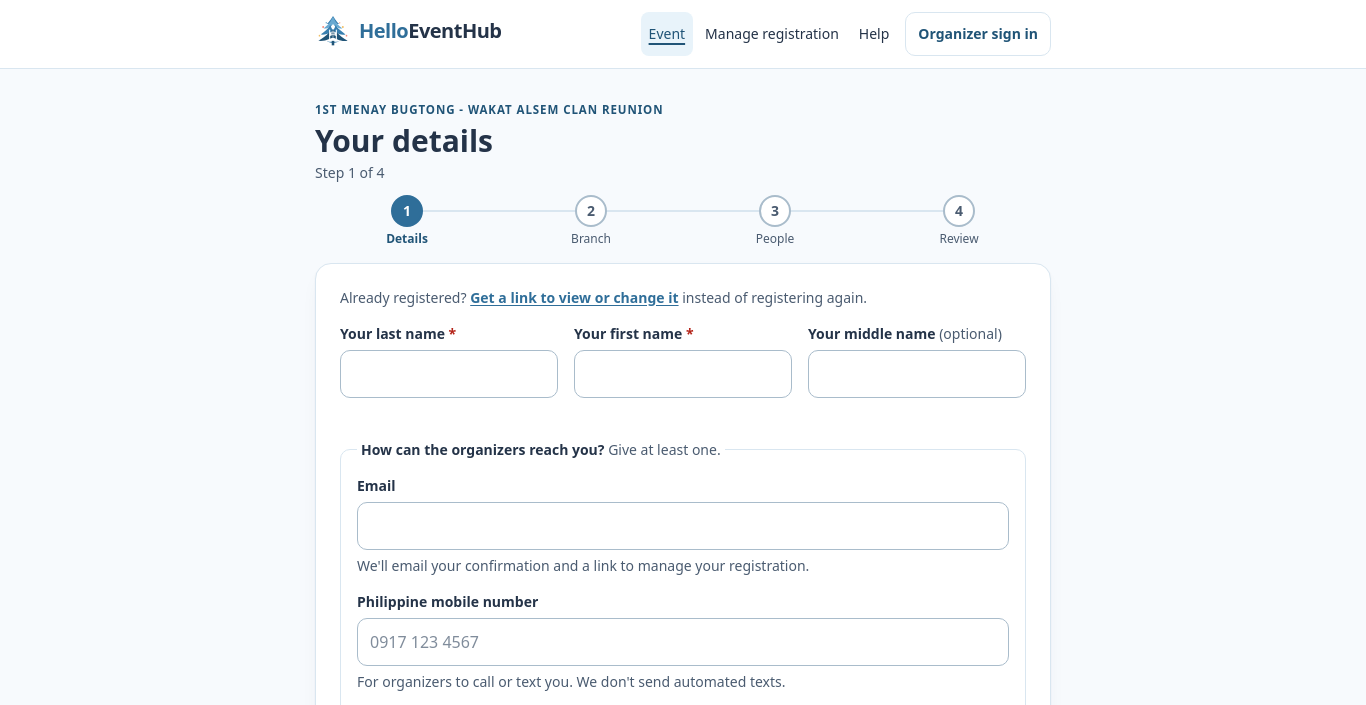
Test: public interface › marks the current registration step and protects entered data during internal navigation
This screenshot has width=1366, height=705.
Type "Santos" into the field labelled "Your last name *" at (449, 374), box top-left (340, 350), bottom-right (558, 398)
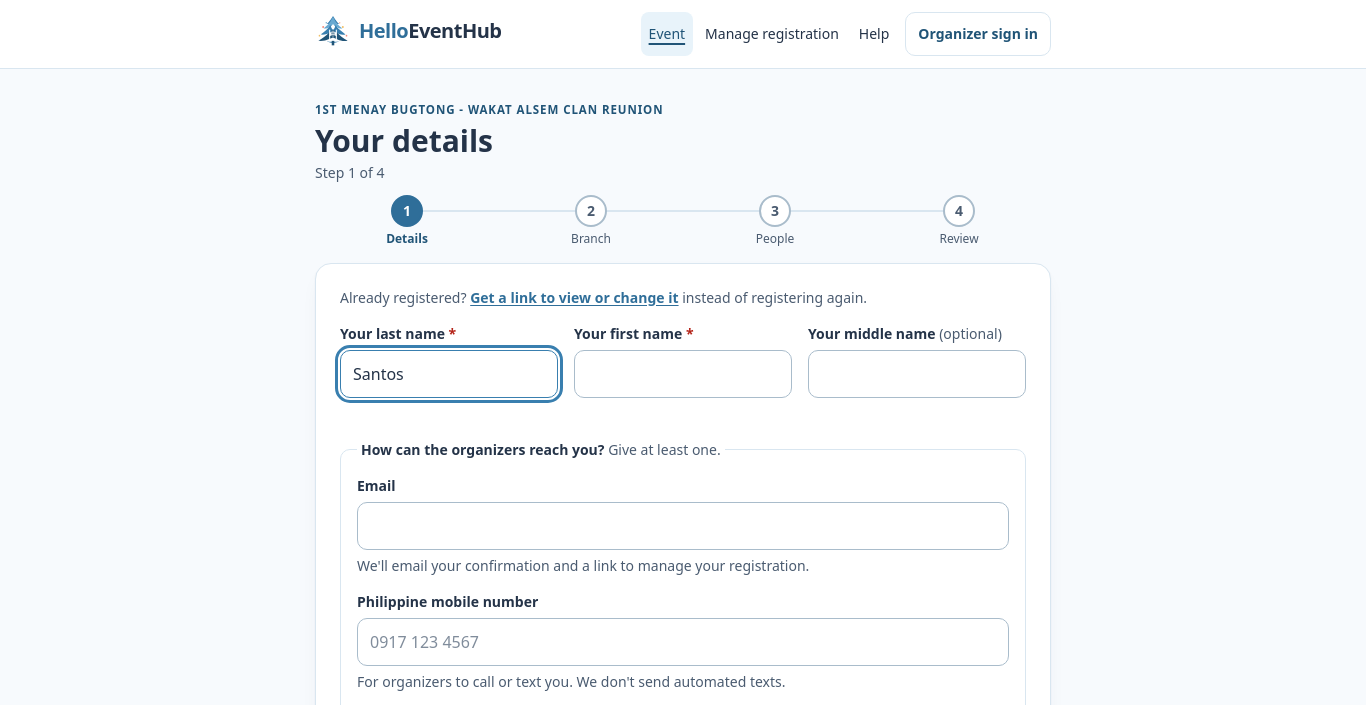
Type "Maria" into the field labelled "Your first name *" at (683, 374), box top-left (574, 350), bottom-right (792, 398)
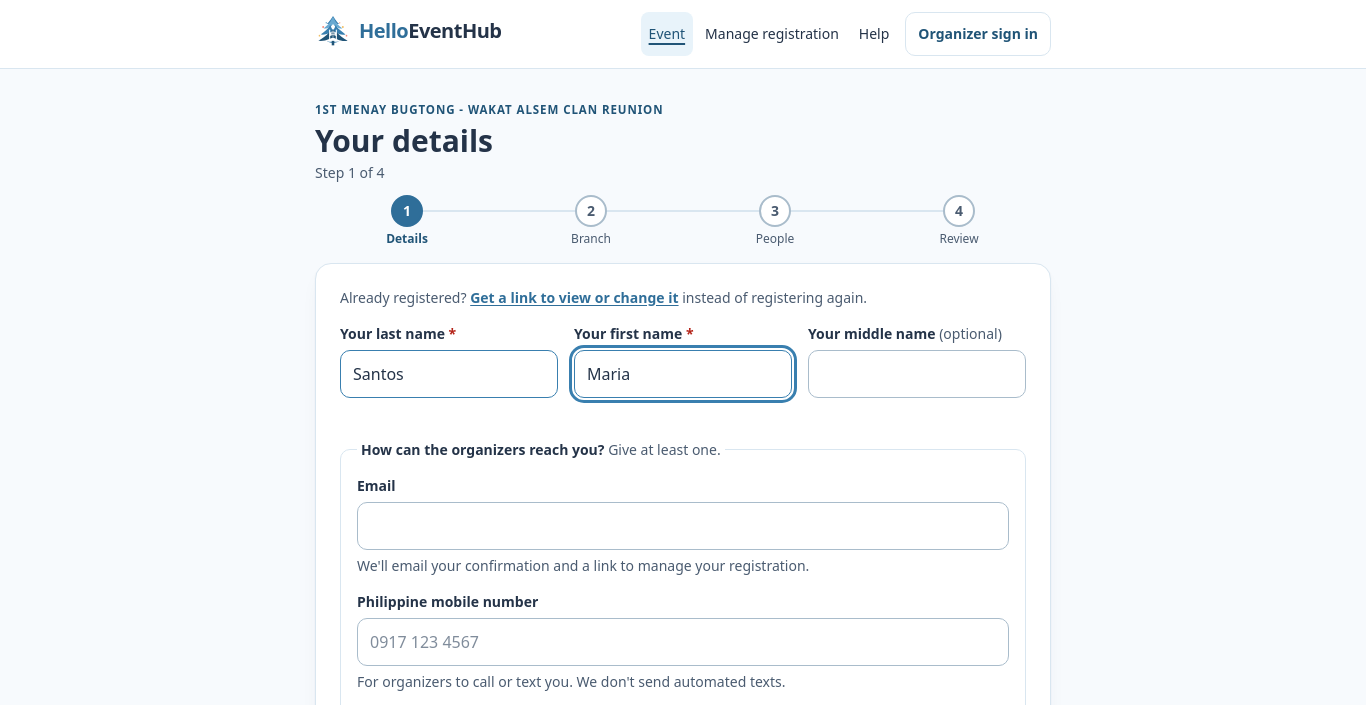
Click the link with aria-label "HelloEventHub home" at (408, 34), box top-left (315, 13), bottom-right (502, 55)
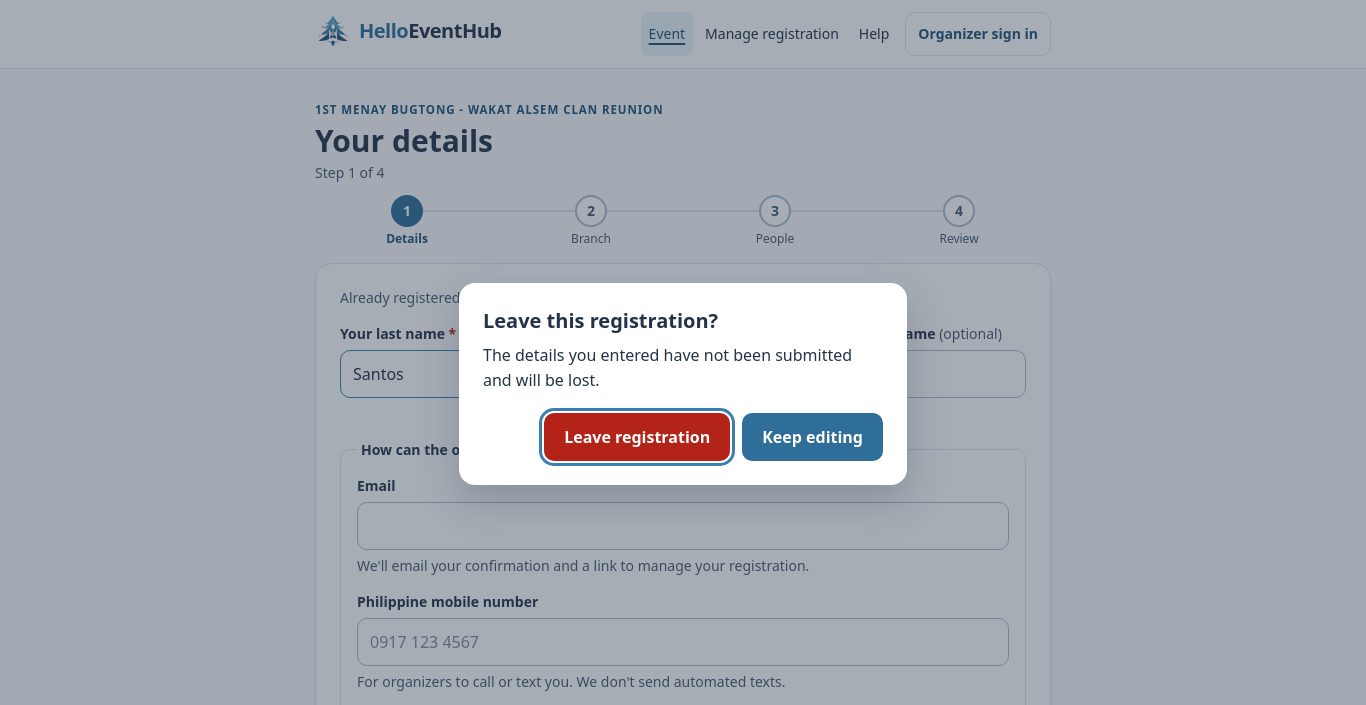
Check: the heading "Leave this registration?" is shown, box top-left (483, 307), bottom-right (718, 334)
Click the button "Keep editing" at (813, 437), box top-left (742, 413), bottom-right (883, 461)
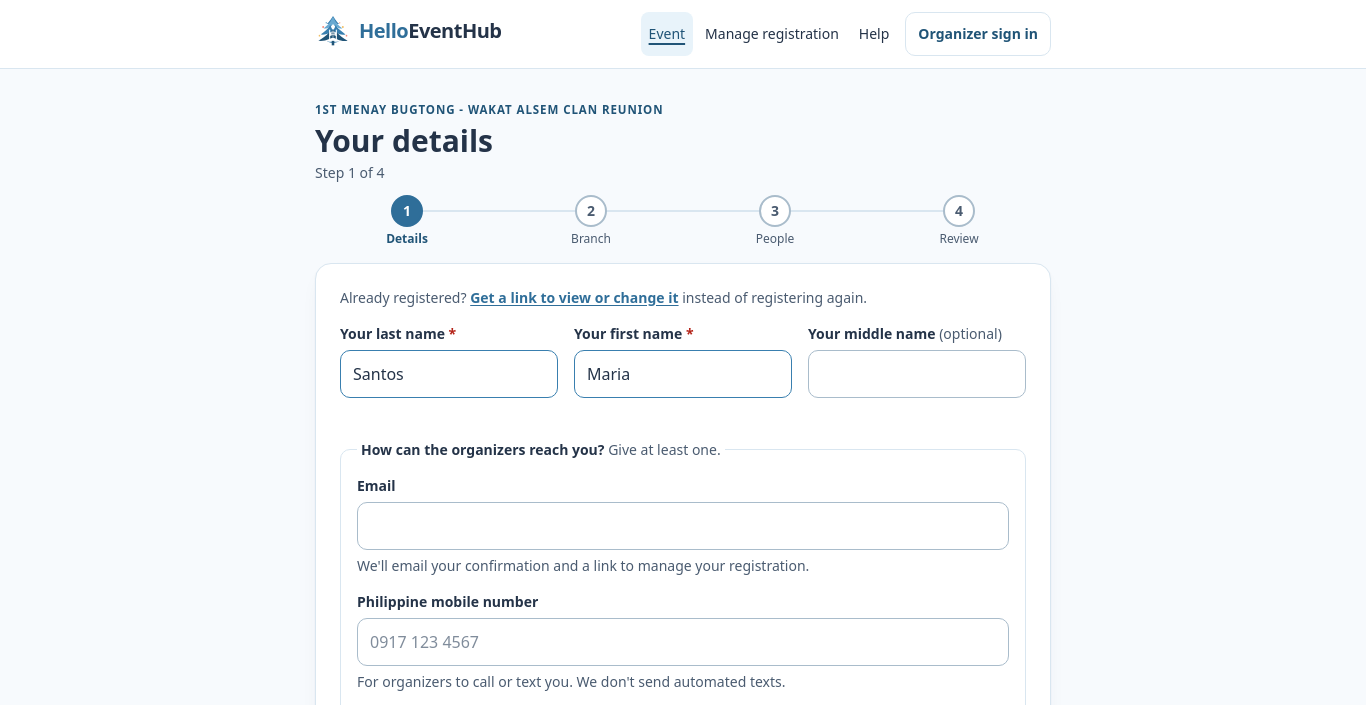
Check: the heading "Your details" is shown, box top-left (315, 120), bottom-right (493, 161)
Click the link with aria-label "HelloEventHub home" at (408, 34), box top-left (315, 13), bottom-right (502, 55)
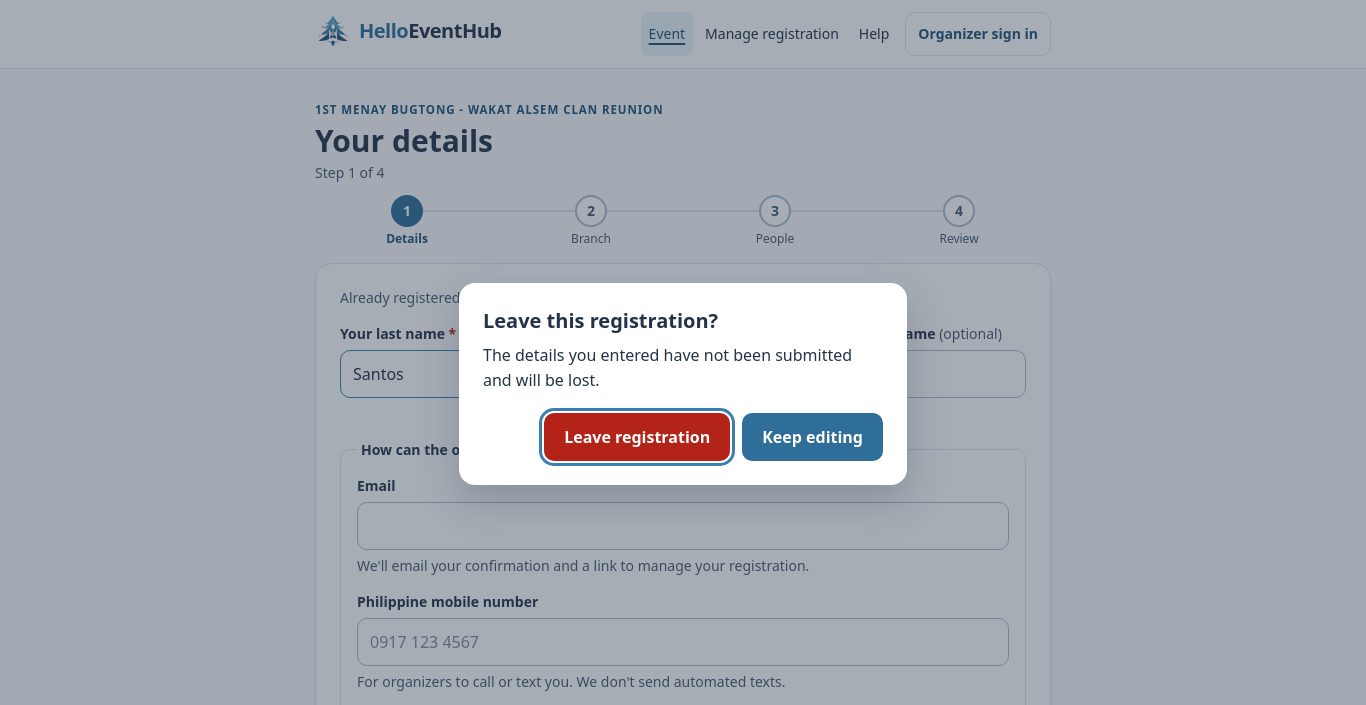
Click the button "Leave registration" at (637, 437), box top-left (544, 413), bottom-right (730, 461)
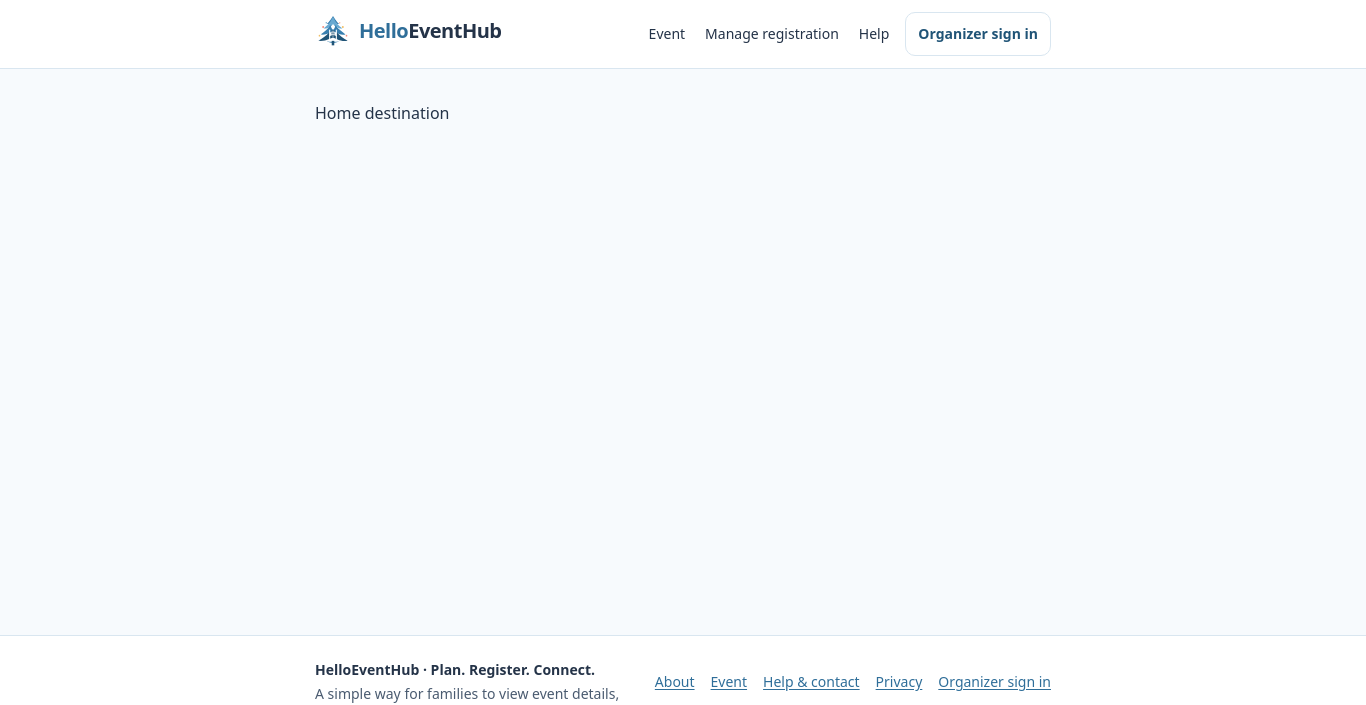
Check: the text "Home destination" is shown, box top-left (315, 102), bottom-right (450, 124)
